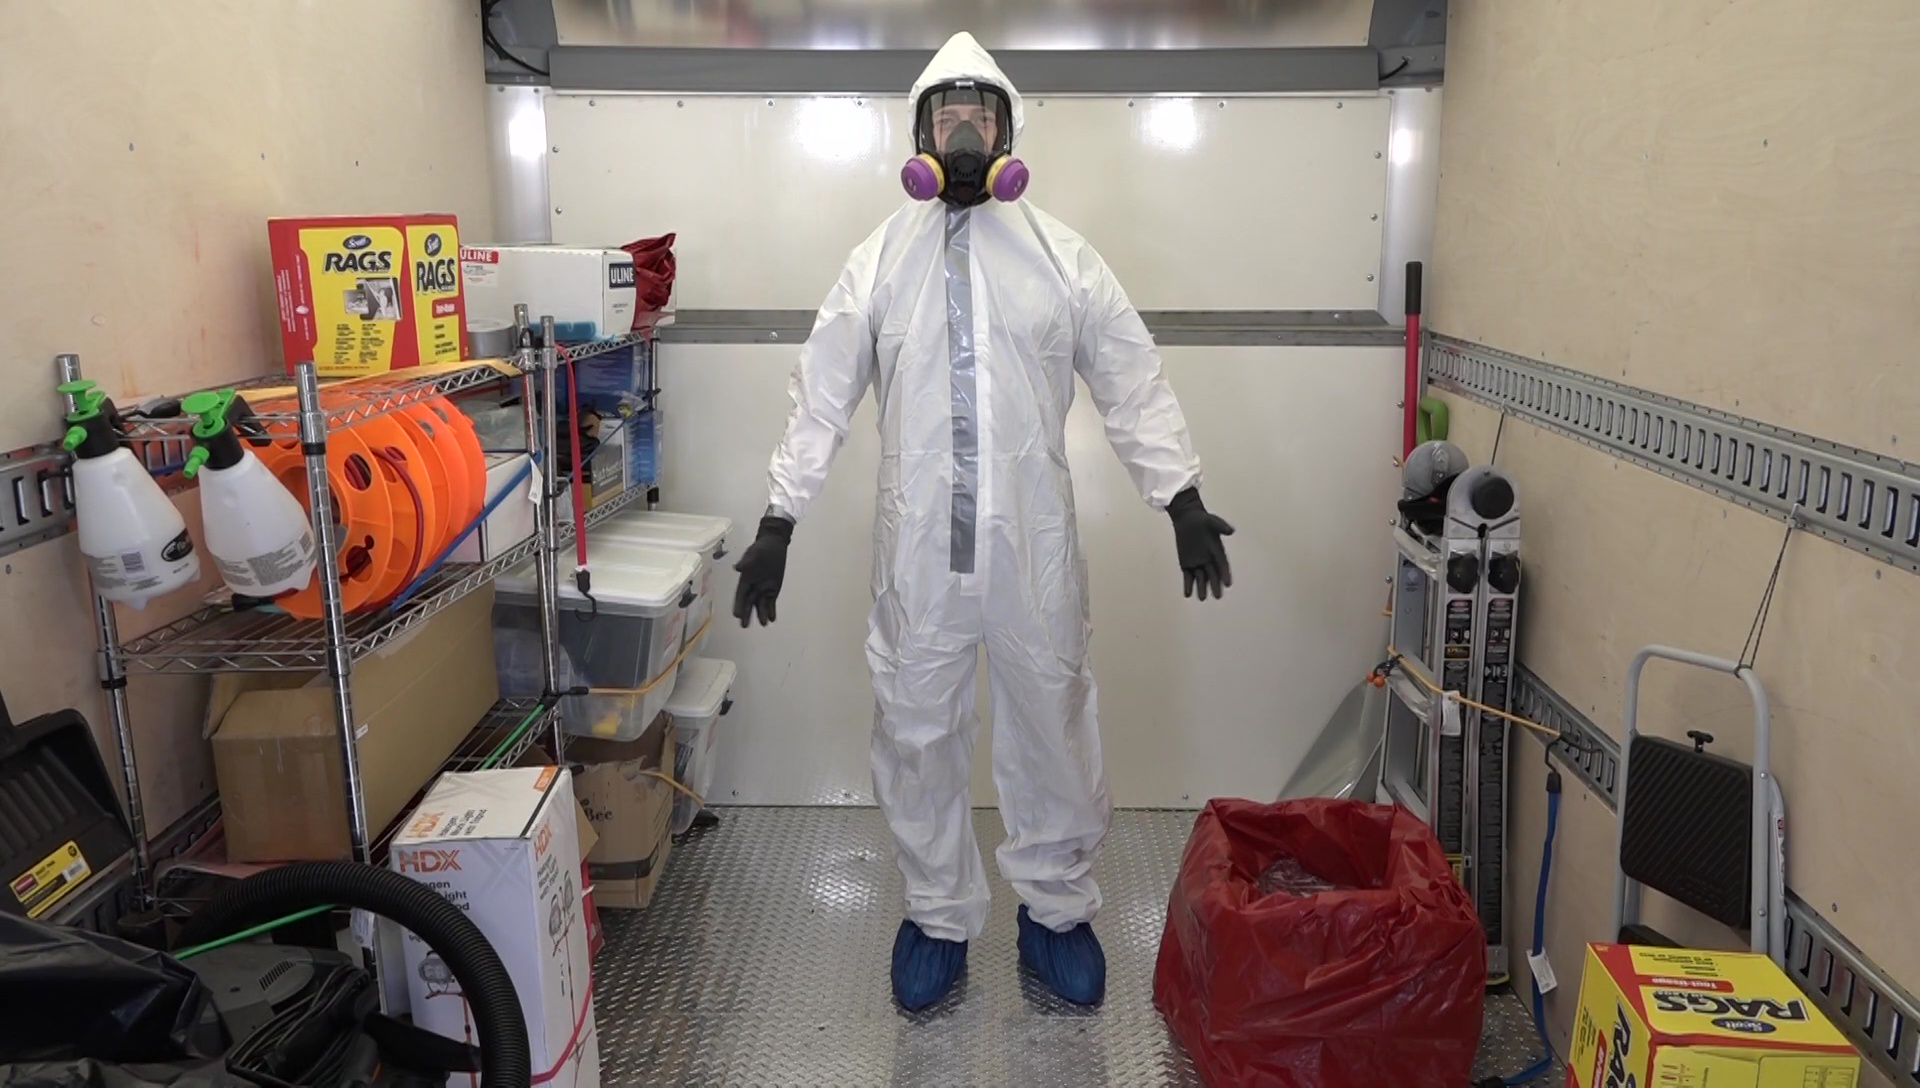Coverall: (762, 33, 1203, 1014)
Face_Shield: (915, 80, 1011, 150)
Gloves: (1160, 479, 1242, 607), (725, 503, 796, 635)
